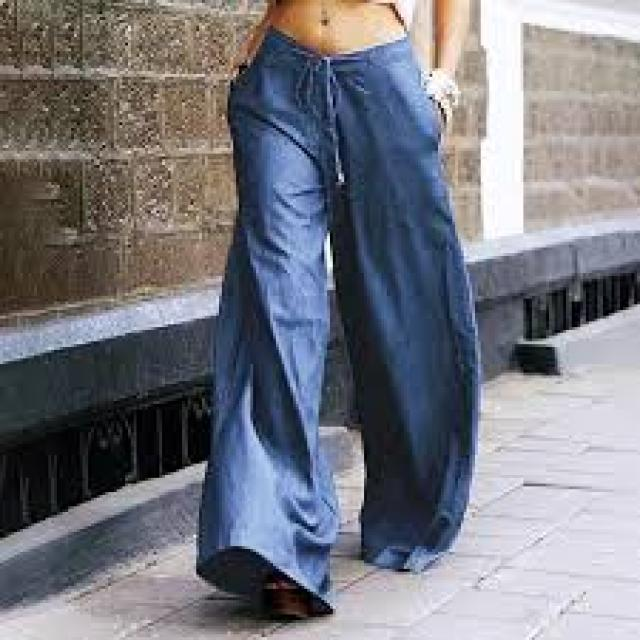pants: (199, 25, 478, 586)
